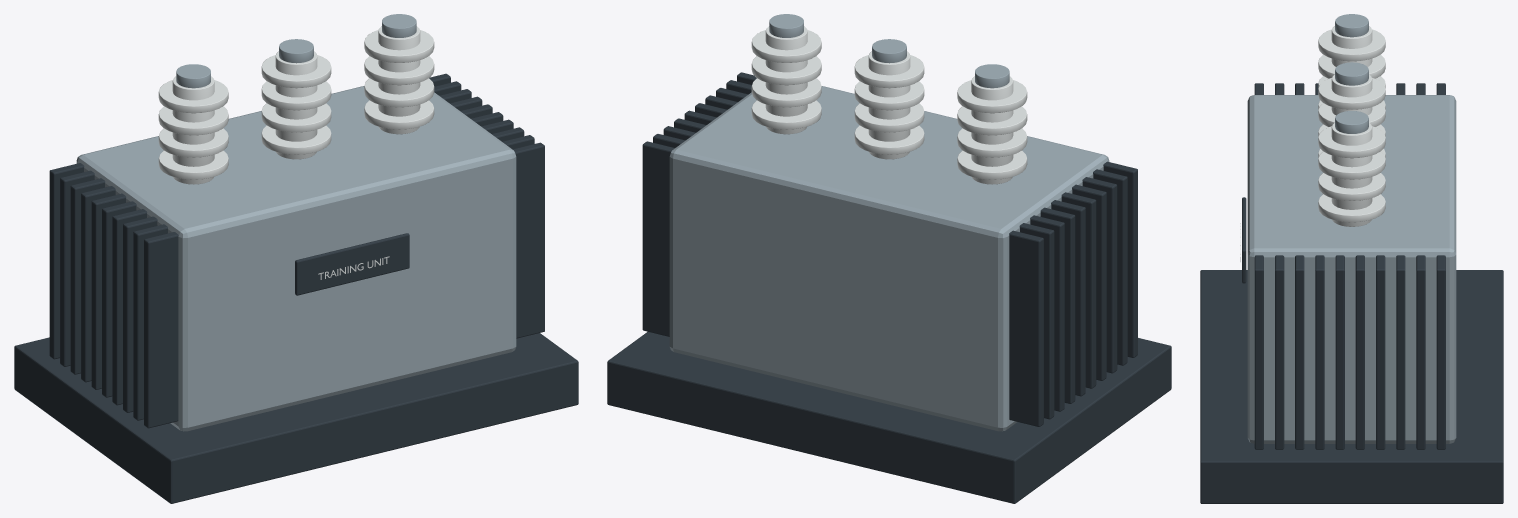
Rendered from transformer.glb.
The picture shows the model from 3 angles, left to right: view 1: azimuth 30°, elevation 25°; view 2: azimuth 150°, elevation 25°; view 3: azimuth 270°, elevation 25°; orthographic projection. The views are drawn at different scales.
Parts seen in each view (by area): view 1: Tank casing, Plinth, Radiator fins, Radiator fins.010, Identification plate, Radiator fins.001, Radiator fins.002, Radiator fins.003, Radiator fins.007, Radiator fins.009, Radiator fins.005, Radiator fins.006 (+20 smaller); view 2: Tank casing, Plinth, Radiator fins.009, Radiator fins.019, Radiator fins.006, Radiator fins.002, Radiator fins.004, Radiator fins.005, Radiator fins.007, Radiator fins.008, Radiator fins, Radiator fins.001 (+19 smaller); view 3: Tank casing, Plinth, Radiator fins.019, Radiator fins.010, Radiator fins.016, Radiator fins.011, Radiator fins.012, Radiator fins.013, Radiator fins.014, Radiator fins.015, Radiator fins.017, Radiator fins.018 (+15 smaller).
Boxes of the visible parts, bbox=[...] form: Tank casing: bbox=[76, 86, 516, 431]; Plinth: bbox=[14, 333, 578, 503]; Radiator fins: bbox=[144, 232, 178, 428]; Radiator fins.010: bbox=[512, 142, 544, 338]; Identification plate: bbox=[295, 233, 409, 295]; Radiator fins.001: bbox=[133, 224, 167, 420]; Radiator fins.002: bbox=[123, 216, 157, 412]; Radiator fins.003: bbox=[112, 209, 147, 405]; Radiator fins.007: bbox=[70, 178, 105, 374]; Radiator fins.009: bbox=[49, 163, 84, 359]; Radiator fins.005: bbox=[91, 193, 126, 389]; Radiator fins.006: bbox=[81, 186, 115, 382]; Tank casing: bbox=[669, 86, 1109, 431]; Plinth: bbox=[607, 332, 1171, 503]; Radiator fins.009: bbox=[1009, 230, 1043, 426]; Radiator fins.019: bbox=[642, 141, 674, 336]; Radiator fins.006: bbox=[1040, 207, 1075, 403]; Radiator fins.002: bbox=[1082, 177, 1117, 373]; Radiator fins.004: bbox=[1061, 192, 1096, 388]; Radiator fins.005: bbox=[1051, 200, 1085, 396]; Radiator fins.007: bbox=[1030, 215, 1064, 411]; Radiator fins.008: bbox=[1019, 223, 1054, 419]; Radiator fins: bbox=[1103, 161, 1137, 357]; Radiator fins.001: bbox=[1093, 169, 1127, 365]; Tank casing: bbox=[1247, 95, 1456, 443]; Plinth: bbox=[1200, 270, 1503, 503]; Radiator fins.019: bbox=[1436, 255, 1445, 449]; Radiator fins.010: bbox=[1254, 255, 1263, 449]; Radiator fins.016: bbox=[1376, 255, 1385, 449]; Radiator fins.011: bbox=[1275, 255, 1284, 449]; Radiator fins.012: bbox=[1295, 255, 1304, 449]; Radiator fins.013: bbox=[1315, 255, 1324, 449]; Radiator fins.014: bbox=[1335, 255, 1344, 449]; Radiator fins.015: bbox=[1355, 255, 1364, 449]; Radiator fins.017: bbox=[1396, 255, 1405, 449]; Radiator fins.018: bbox=[1416, 255, 1425, 449].
Size of the model in its own units: 2.7 by 2.22 by 1.8.
